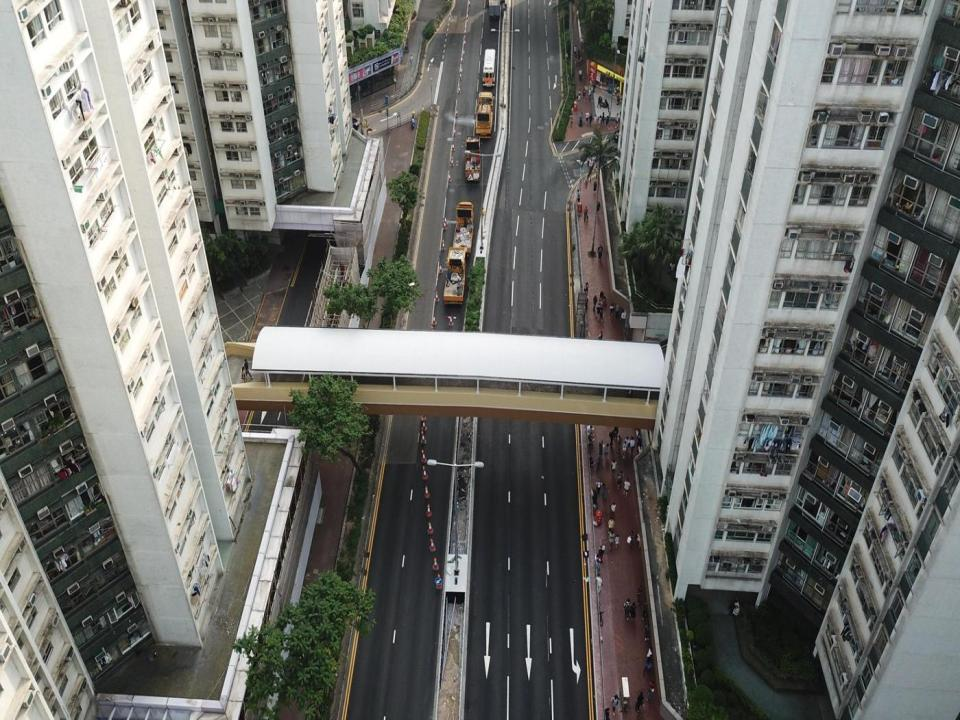bus: (482, 47, 497, 87)
car: (327, 116, 359, 133)
truck: (443, 246, 466, 304), (452, 202, 474, 256), (476, 90, 494, 138), (464, 135, 481, 180), (488, 0, 500, 19)
